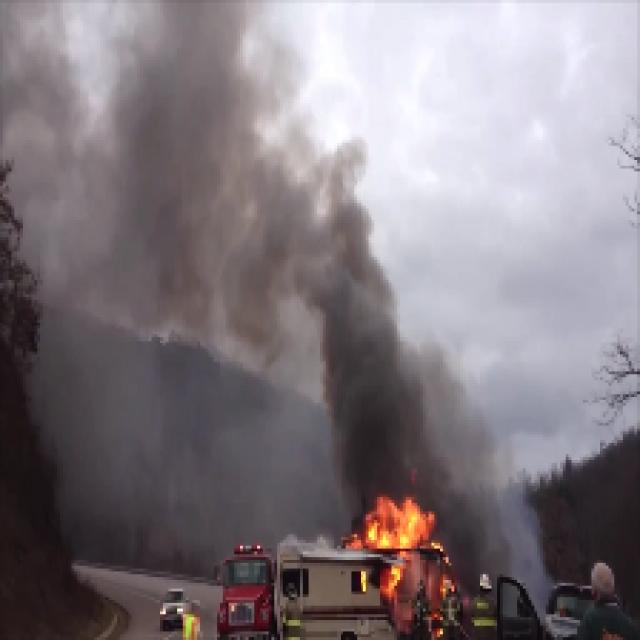fire: (364, 491, 434, 544)
smoke: (334, 338, 448, 488), (234, 203, 368, 296)
